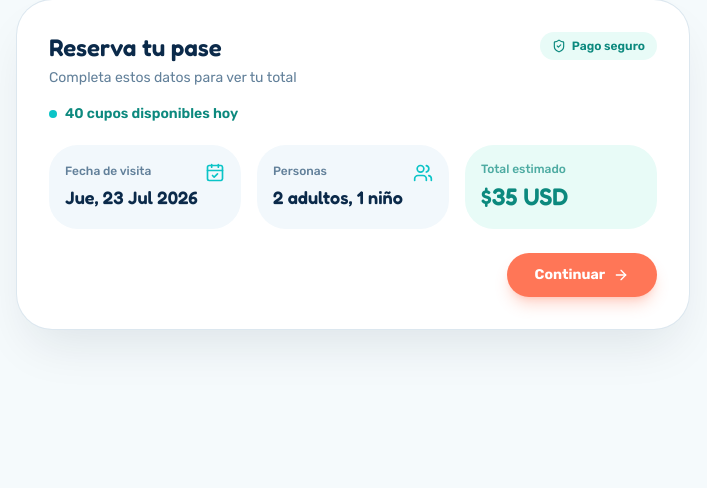
BookingCard › recalculates the total when adjusting the people stepper
Click the button "Personas 2 adultos, 1 niño" at (353, 187), box [257,145,449,229]
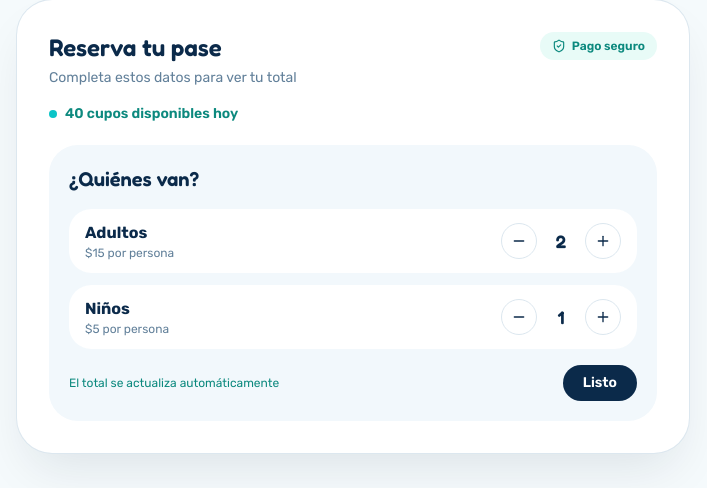
Click the button named "aumentar adultos" at (603, 241), box [585,223,621,259]
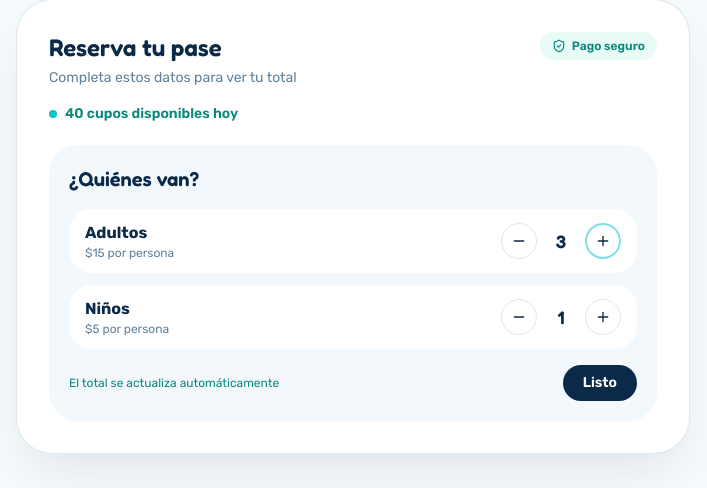
Click the button "Listo" at (600, 383), box [563,365,637,401]
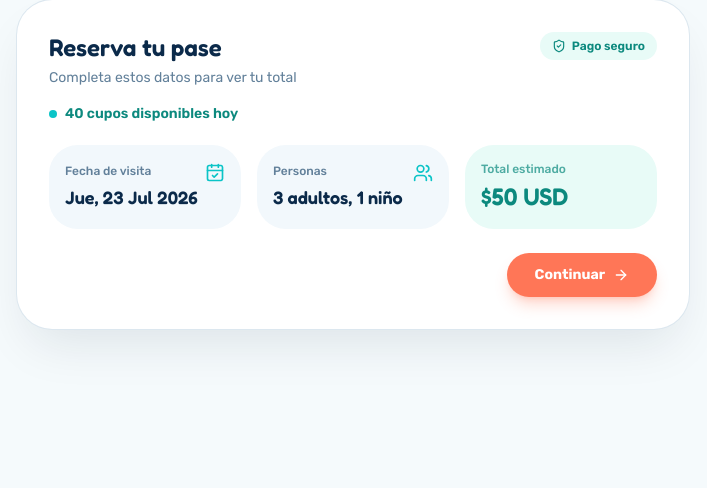
Check: the text with test id "total-usd" reads "$50 USD", box [481,182,568,211]
